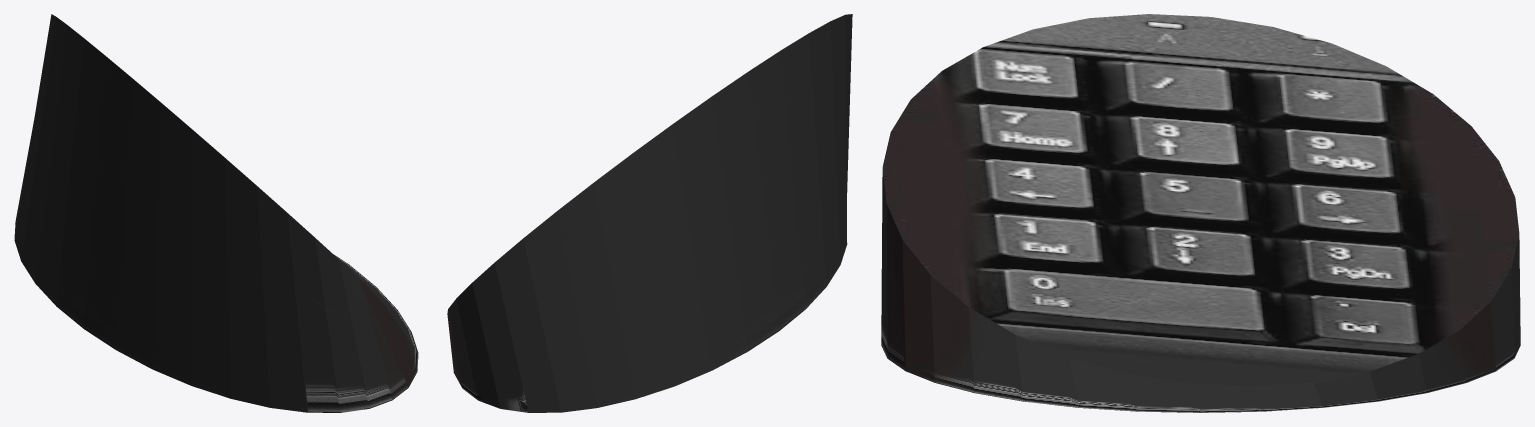
Rendered from teclado.fbx.
3 renders of one model, left to right at view 1: azimuth 30°, elevation 25°; view 2: azimuth 150°, elevation 25°; view 3: azimuth 270°, elevation 25°, orthographic. The views are drawn at different scales.
Visible parts, largest first — view 1: Cylinder; view 2: Cylinder; view 3: Cylinder.
Part boxes in pixels (box(x1,y1,x2,y2)): Cylinder: box(14, 14, 418, 412); Cylinder: box(447, 14, 852, 412); Cylinder: box(881, 14, 1520, 412).
Bounding box in the file's own units: 400 × 380 × 800.
